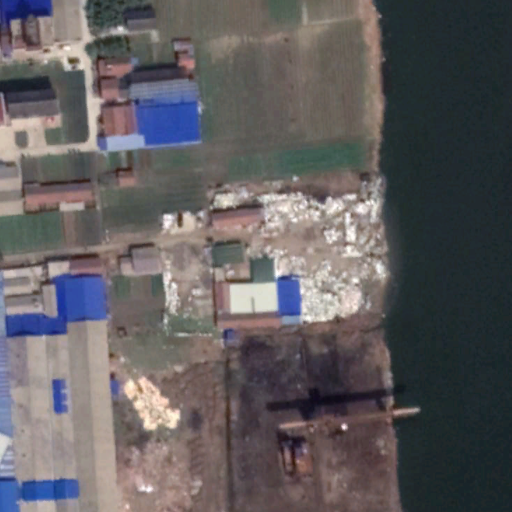msw: (210, 185, 384, 323), (124, 374, 179, 429)
